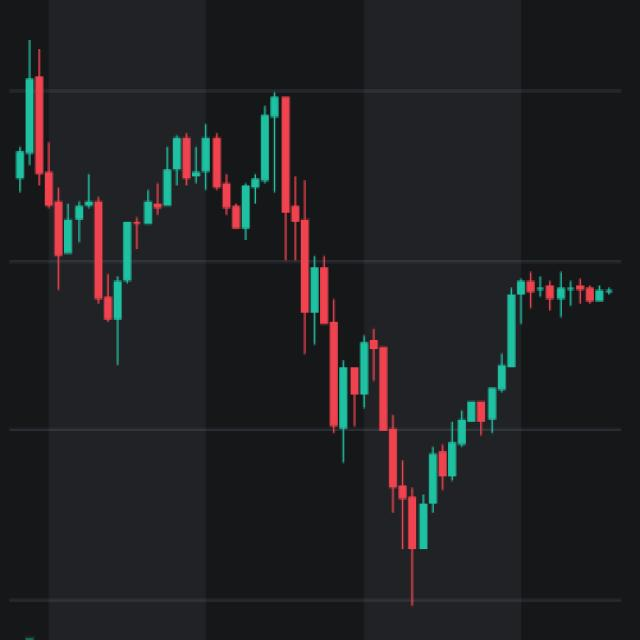Inverse-Head-Shoulders: (300, 256, 520, 573)
